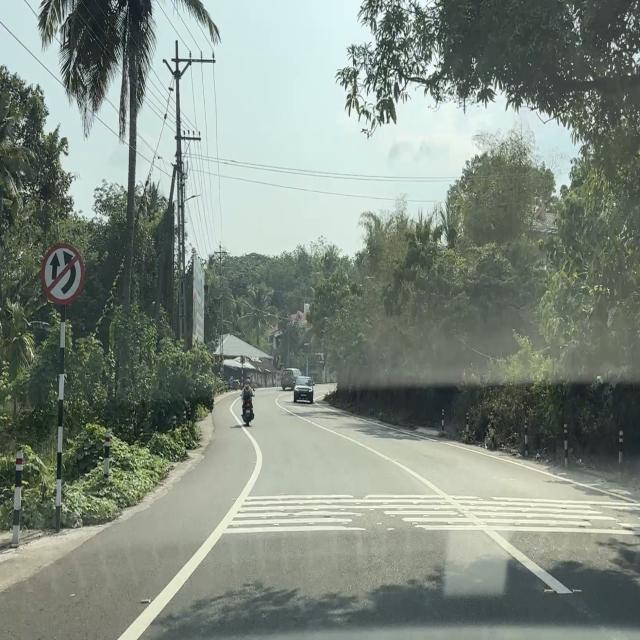OVERTAKING_PROHIBITED: (40, 240, 85, 306)
